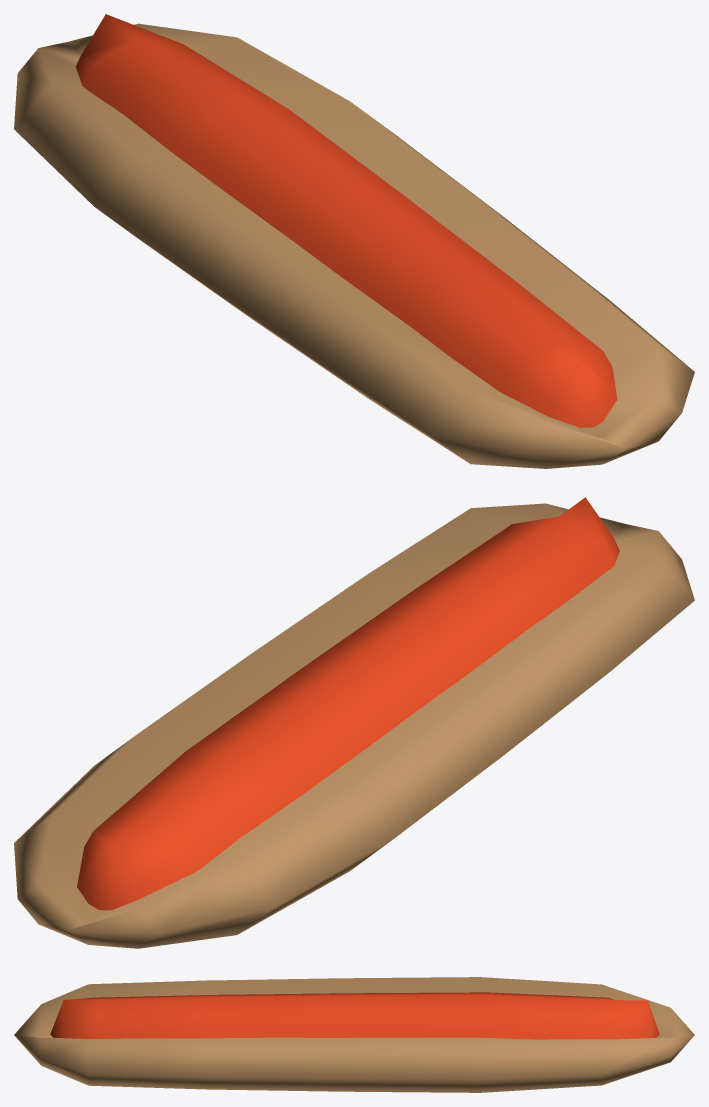
The model's file is hotdog.glb.
The picture shows the model from 3 angles, top to bottom: view 1: azimuth 30°, elevation 25°; view 2: azimuth 150°, elevation 25°; view 3: azimuth 270°, elevation 25°; orthographic projection. The views are drawn at different scales.
Visible parts, largest first — view 1: Hotdog; view 2: Hotdog; view 3: Hotdog.
Part boxes in pixels (x1,y1,x2,y2): Hotdog: (14,14,694,468); Hotdog: (14,497,694,948); Hotdog: (14,977,694,1092).
Size of the model in its own units: 1.44 by 0.5711 by 4.62.
